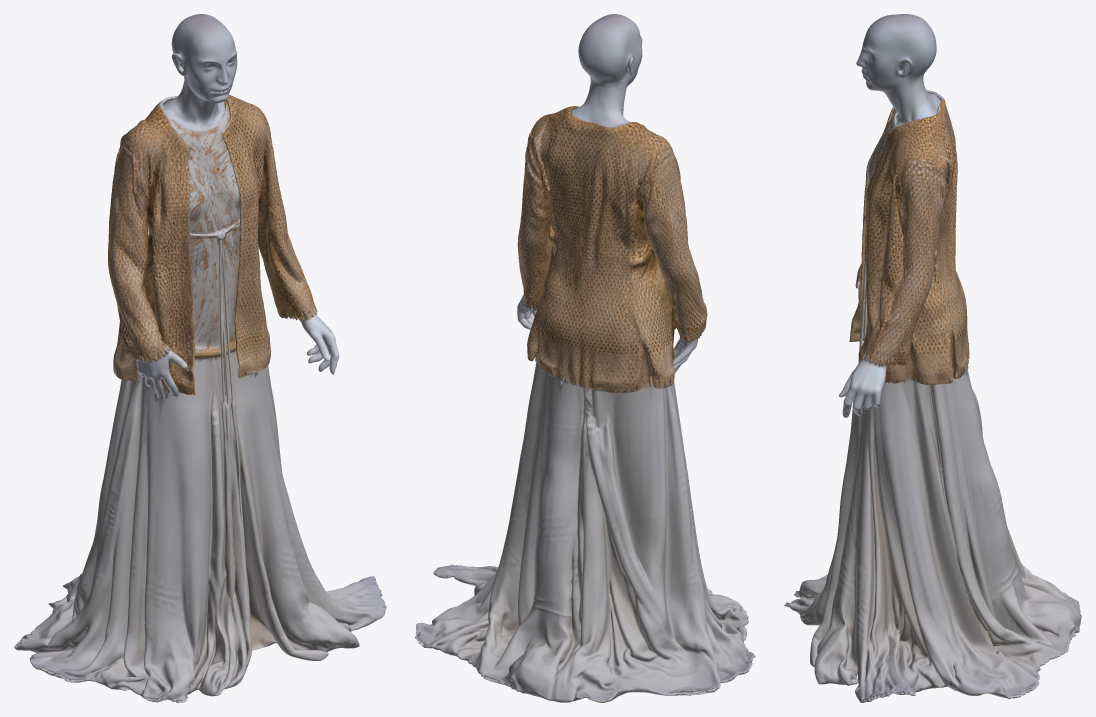
The picture shows the model from 3 angles, left to right: view 1: azimuth 30°, elevation 25°; view 2: azimuth 150°, elevation 25°; view 3: azimuth 270°, elevation 25°; orthographic projection. The views are drawn at different scales.
Parts seen in each view (by area): view 1: tripo_node_f49c8128-aa40-4d05-940e-7661f6c107c8; view 2: tripo_node_f49c8128-aa40-4d05-940e-7661f6c107c8; view 3: tripo_node_f49c8128-aa40-4d05-940e-7661f6c107c8.
Part boxes in pixels (bbox=[...]): tripo_node_f49c8128-aa40-4d05-940e-7661f6c107c8: bbox=[14, 14, 386, 702]; tripo_node_f49c8128-aa40-4d05-940e-7661f6c107c8: bbox=[415, 14, 755, 702]; tripo_node_f49c8128-aa40-4d05-940e-7661f6c107c8: bbox=[784, 14, 1081, 702].
Size of the model in its own units: 0.5412 by 0.9821 by 0.4294.
Materials: 1 (1 with a texture image).
